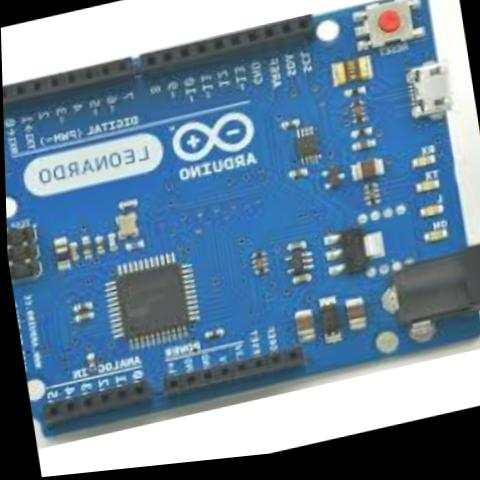Arduino-Leonardo: (1, 0, 480, 446)
